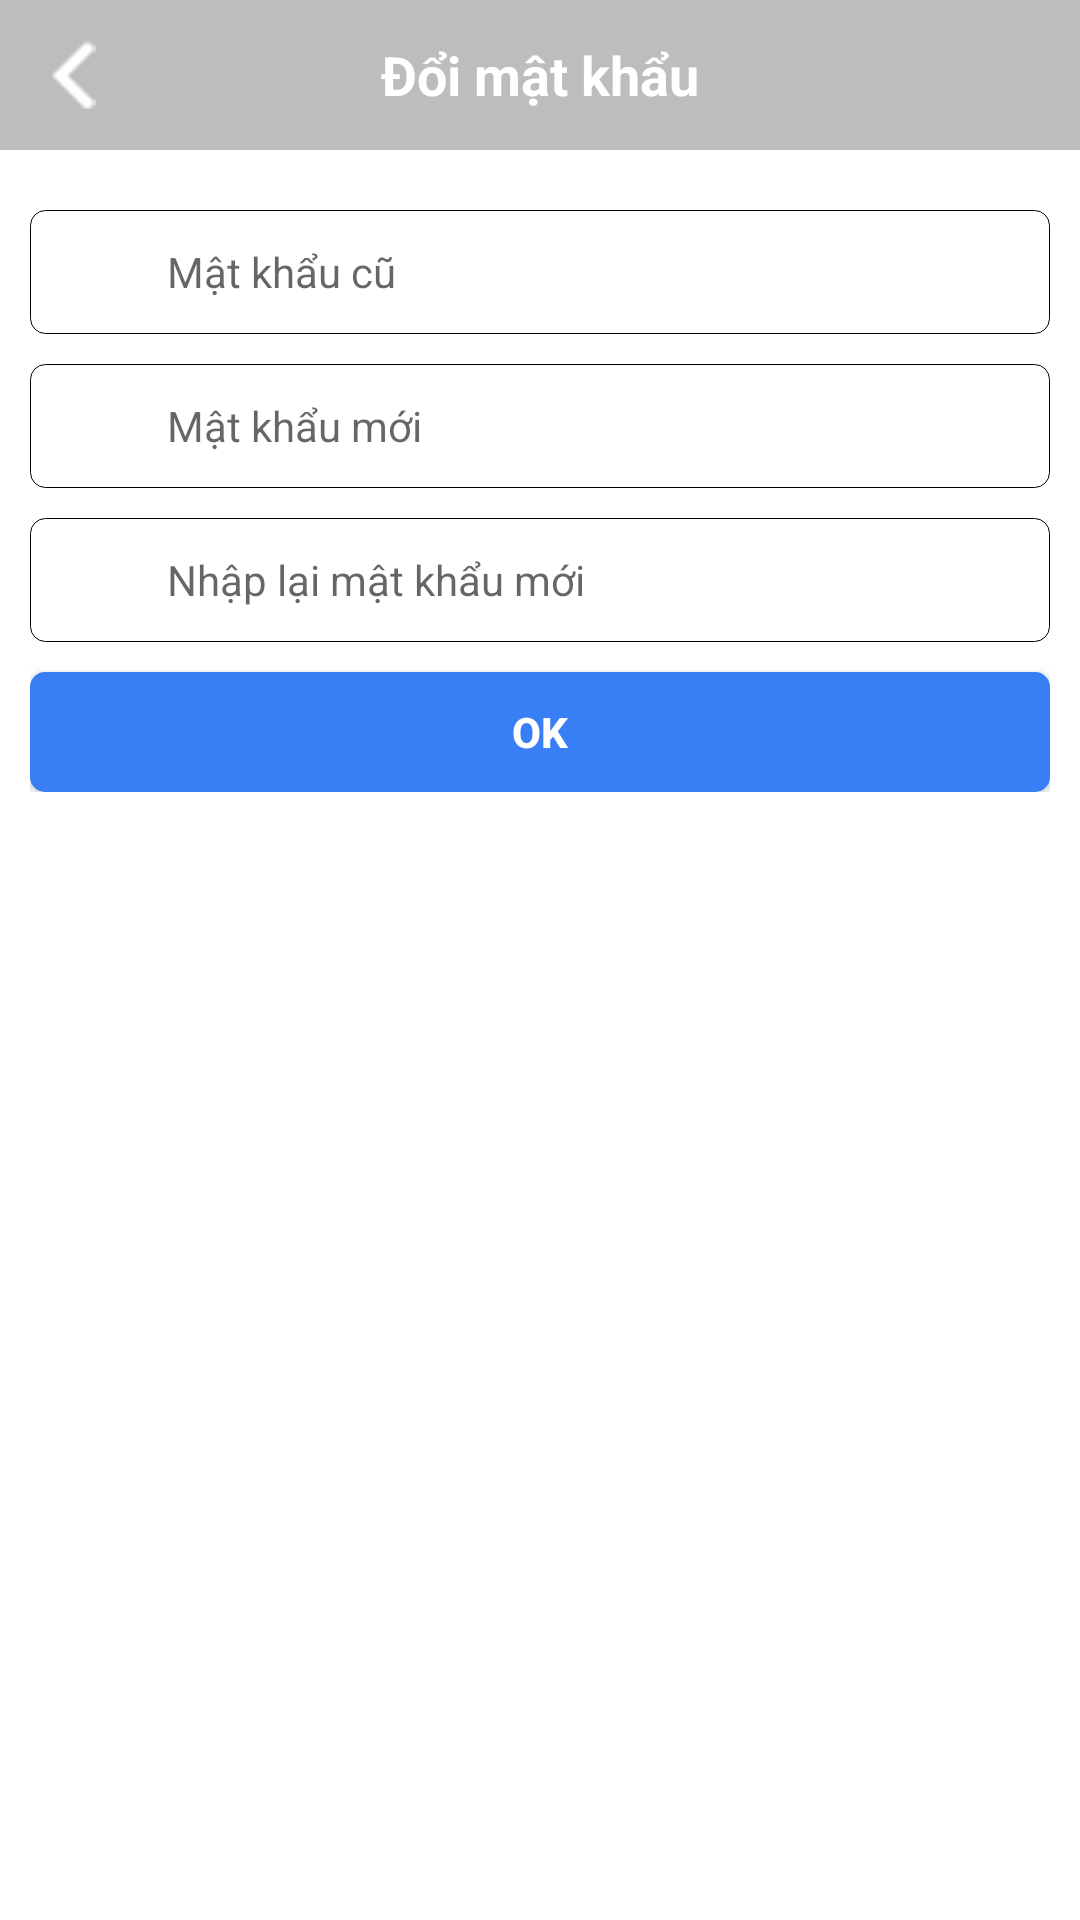

Where to tap for icons on this 1080*1920 app screen, as (x=x, y=y):
arrow left: (x=74, y=76)
